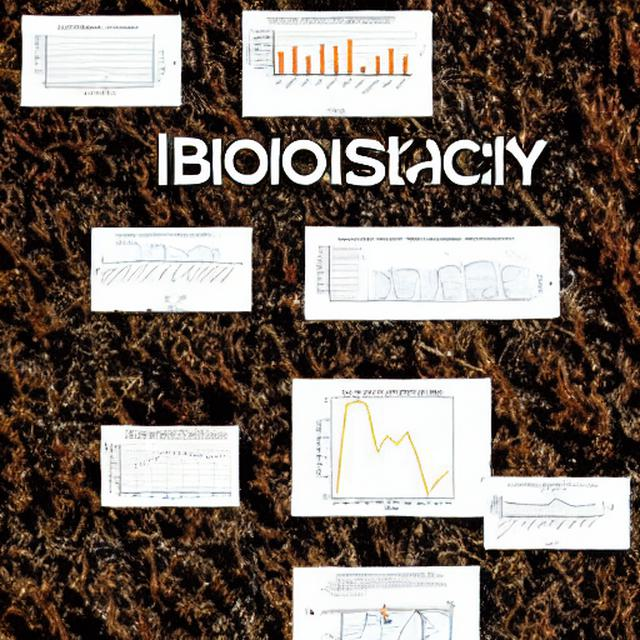Graph: (302, 381, 478, 513), (245, 13, 416, 114), (107, 429, 236, 505), (487, 481, 602, 547)
